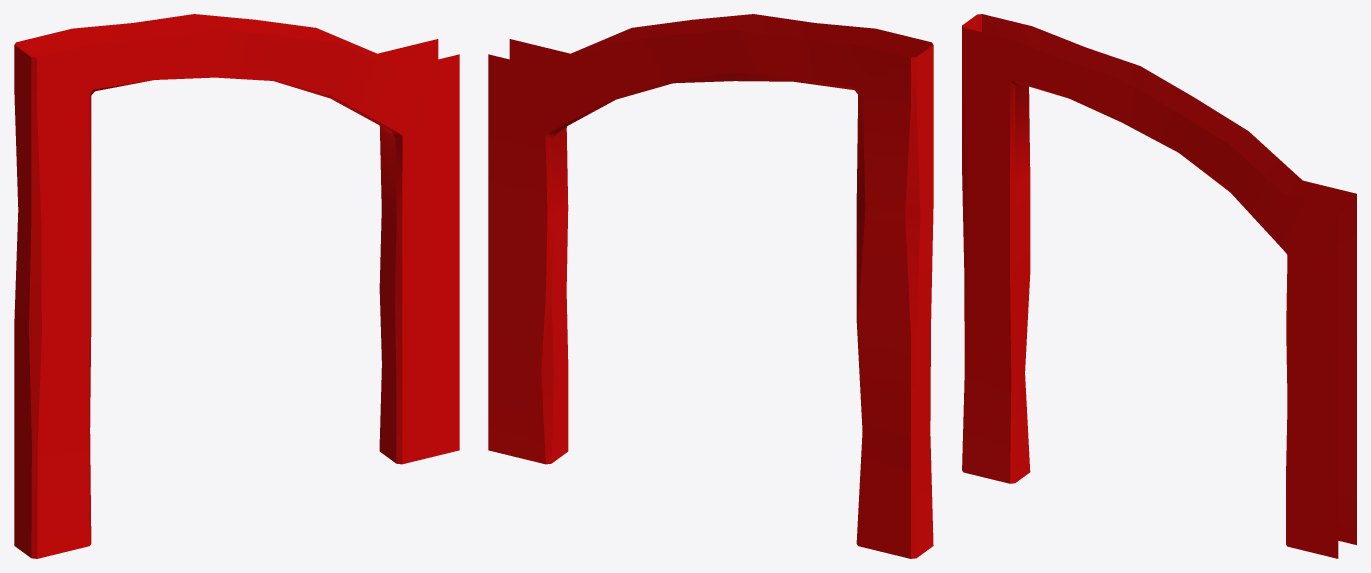
File: Support.FBX
3 views of the same model, side by side, from view 1: azimuth 30°, elevation 25°; view 2: azimuth 150°, elevation 25°; view 3: azimuth 330°, elevation 25° (orthographic). The views are drawn at different scales.
Parts seen in each view (by area): view 1: Support; view 2: Support; view 3: Support.
Part boxes in pixels (x1=…): Support: x1=14, y1=14, x2=459, y2=558; Support: x1=488, y1=14, x2=933, y2=558; Support: x1=962, y1=14, x2=1356, y2=558.
Size of the model in its own units: 349 by 392 by 30.
